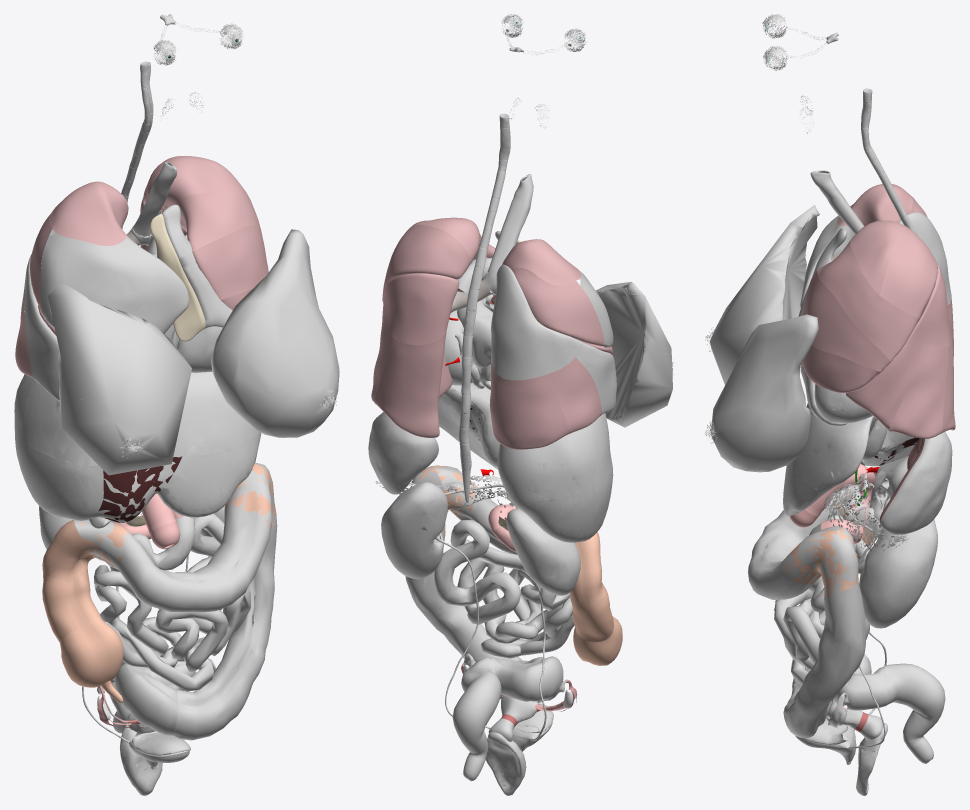
The model's file is organs.glb.
3 renders of one model, left to right at view 1: azimuth 30°, elevation 25°; view 2: azimuth 150°, elevation 25°; view 3: azimuth 270°, elevation 25°, orthographic. The views are drawn at different scales.
Visible parts, largest first — view 1: HRA-VH_F_fat_R, HRA-VH_F_fat_L, HRA-VH_F_transverse_colon, HRA-VH_F_capsule_of_the_liver, HRA-VH_F_right_anterior_bronchopulmonary_segm, HRA-VH_F_ileum, HRA-VH_F_descending_colon, HRA-VH_F_ascending_colon, HRA-VH_F_right_apical_bronchopulmonary_segment, HRA-VH_F_lingula_superior_bronchopulmonary_segment, HRA-VH_F_left_anterior_bronchopulmonary_segment, HRA-VH_F_sigmoid_colon (+22 smaller); view 2: HRA-VH_F_fat_R, HRA-VH_F_right_superior_bronchopulmonary_segment, HRA-VH_F_left_posterior_basal_bronchopulmonary_segment, HRA-VH_F_right_posterior_basal_bronchopulmonary_segment, HRA-VH_F_jejenum, HRA-VH_F_ileum, HRA-VH_F_kidney_capsule_L, HRA-VH_F_left_superior_bronchopulmonary_segment, HRA-VH_F_capsule_of_the_liver, HRA-VH_F_right_posterior_bronchopulmonary_segment, HRA-VH_F_kidney_capsule_R, HRA-VH_F_bare_area_of_liver (+26 smaller); view 3: HRA-VH_F_fat_L, HRA-VH_F_descending_colon, HRA-VH_F_fat_R, HRA-VH_F_kidney_capsule_L, HRA-VH_F_transverse_colon, HRA-VH_F_left_anterior_bronchopulmonary_segment, HRA-VH_F_diaphragmatic_surface_of_spleen, HRA-VH_F_left_lateral_basal_bronchopulmonary_segment, HRA-VH_F_rectum, HRA-VH_F_lingula_superior_bronchopulmonary_segment, HRA-VH_F_capsule_of_the_liver, HRA-VH_F_left_posterior_bronchopulmonary_segment (+25 smaller).
Boxes of the visible parts, bbox=[...] form: HRA-VH_F_fat_R: bbox=[48, 283, 191, 475]; HRA-VH_F_fat_L: bbox=[210, 229, 339, 437]; HRA-VH_F_transverse_colon: bbox=[74, 469, 272, 612]; HRA-VH_F_capsule_of_the_liver: bbox=[14, 371, 260, 523]; HRA-VH_F_right_anterior_bronchopulmonary_segm: bbox=[40, 233, 188, 333]; HRA-VH_F_ileum: bbox=[94, 565, 250, 691]; HRA-VH_F_descending_colon: bbox=[173, 463, 277, 740]; HRA-VH_F_ascending_colon: bbox=[42, 519, 101, 642]; HRA-VH_F_right_apical_bronchopulmonary_segment: bbox=[49, 181, 128, 245]; HRA-VH_F_lingula_superior_bronchopulmonary_segment: bbox=[192, 225, 268, 299]; HRA-VH_F_left_anterior_bronchopulmonary_segment: bbox=[174, 188, 260, 251]; HRA-VH_F_sigmoid_colon: bbox=[115, 648, 195, 735]; HRA-VH_F_fat_R: bbox=[595, 282, 672, 427]; HRA-VH_F_right_superior_bronchopulmonary_segment: bbox=[491, 264, 581, 380]; HRA-VH_F_left_posterior_basal_bronchopulmonary_segment: bbox=[374, 332, 452, 437]; HRA-VH_F_right_posterior_basal_bronchopulmonary_segment: bbox=[489, 359, 568, 449]; HRA-VH_F_jejenum: bbox=[434, 520, 528, 624]; HRA-VH_F_ileum: bbox=[457, 558, 572, 658]; HRA-VH_F_kidney_capsule_L: bbox=[381, 482, 447, 579]; HRA-VH_F_left_superior_bronchopulmonary_segment: bbox=[384, 273, 459, 345]; HRA-VH_F_capsule_of_the_liver: bbox=[438, 383, 613, 542]; HRA-VH_F_right_posterior_bronchopulmonary_segment: bbox=[511, 267, 604, 346]; HRA-VH_F_kidney_capsule_R: bbox=[506, 508, 580, 595]; HRA-VH_F_bare_area_of_liver: bbox=[455, 386, 566, 518]; HRA-VH_F_fat_L: bbox=[711, 314, 818, 472]; HRA-VH_F_descending_colon: bbox=[783, 528, 865, 737]; HRA-VH_F_fat_R: bbox=[710, 205, 819, 384]; HRA-VH_F_kidney_capsule_L: bbox=[859, 519, 937, 628]; HRA-VH_F_transverse_colon: bbox=[747, 490, 849, 599]; HRA-VH_F_left_anterior_bronchopulmonary_segment: bbox=[817, 241, 919, 361]; HRA-VH_F_diaphragmatic_surface_of_spleen: bbox=[880, 432, 952, 534]; HRA-VH_F_left_lateral_basal_bronchopulmonary_segment: bbox=[889, 343, 948, 438]; HRA-VH_F_rectum: bbox=[884, 663, 945, 763]; HRA-VH_F_lingula_superior_bronchopulmonary_segment: bbox=[802, 270, 890, 371]; HRA-VH_F_capsule_of_the_liver: bbox=[783, 403, 914, 516]; HRA-VH_F_left_posterior_bronchopulmonary_segment: bbox=[879, 226, 937, 317].
Size of the model in its own units: 0.6359 by 1.79 by 0.531.
